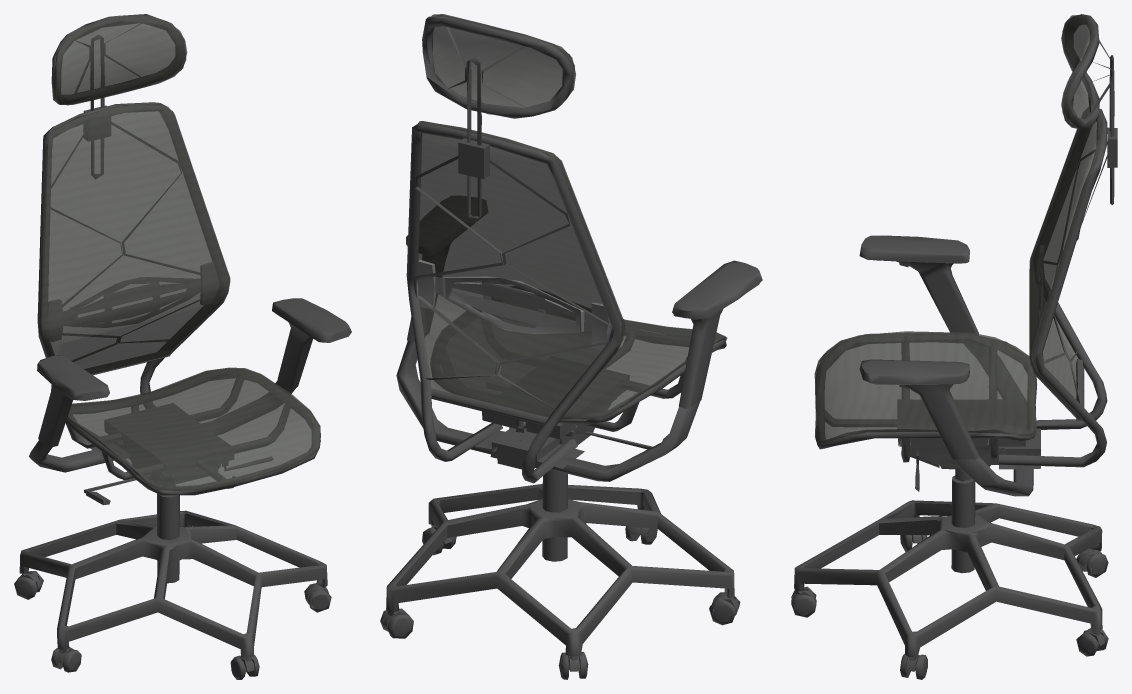
File: styrspel_krzeso_gamingowe_20522032.glb
The picture shows the model from 3 angles, left to right: view 1: azimuth 30°, elevation 25°; view 2: azimuth 150°, elevation 25°; view 3: azimuth 270°, elevation 25°; orthographic projection. The views are drawn at different scales.
Parts seen in each view (by area): view 1: styrspel_krzeso_gamingowe_20522032; view 2: styrspel_krzeso_gamingowe_20522032; view 3: styrspel_krzeso_gamingowe_20522032.
Part boxes in pixels (x1,y1,x2,y2): styrspel_krzeso_gamingowe_20522032: (14,14,351,679); styrspel_krzeso_gamingowe_20522032: (380,14,762,679); styrspel_krzeso_gamingowe_20522032: (791,14,1117,679).
Bounding box in the file's own units: 0.708 × 1.36 × 0.6899.
Materials: 2 (2 with a texture image).
